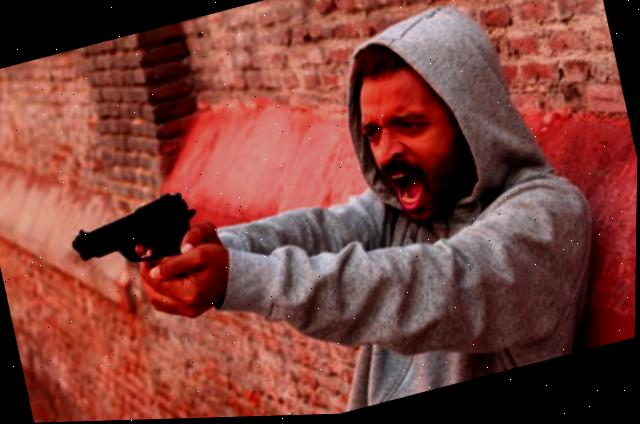pistol: (66, 185, 223, 303)
